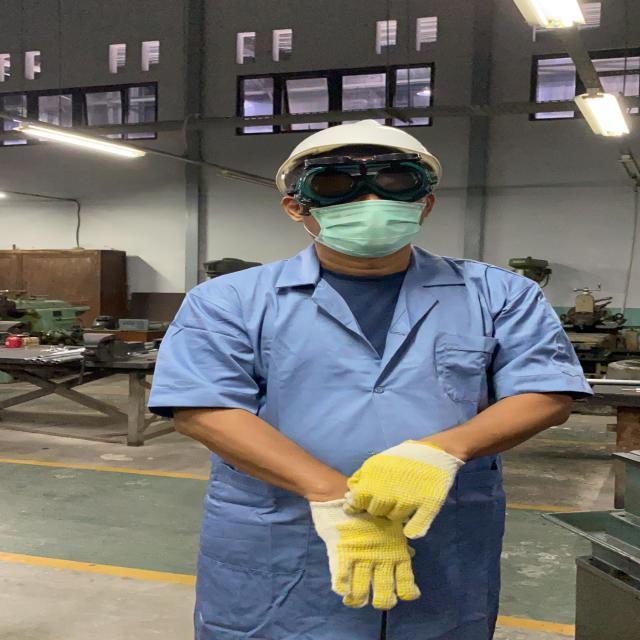glasses: (278, 150, 443, 204)
